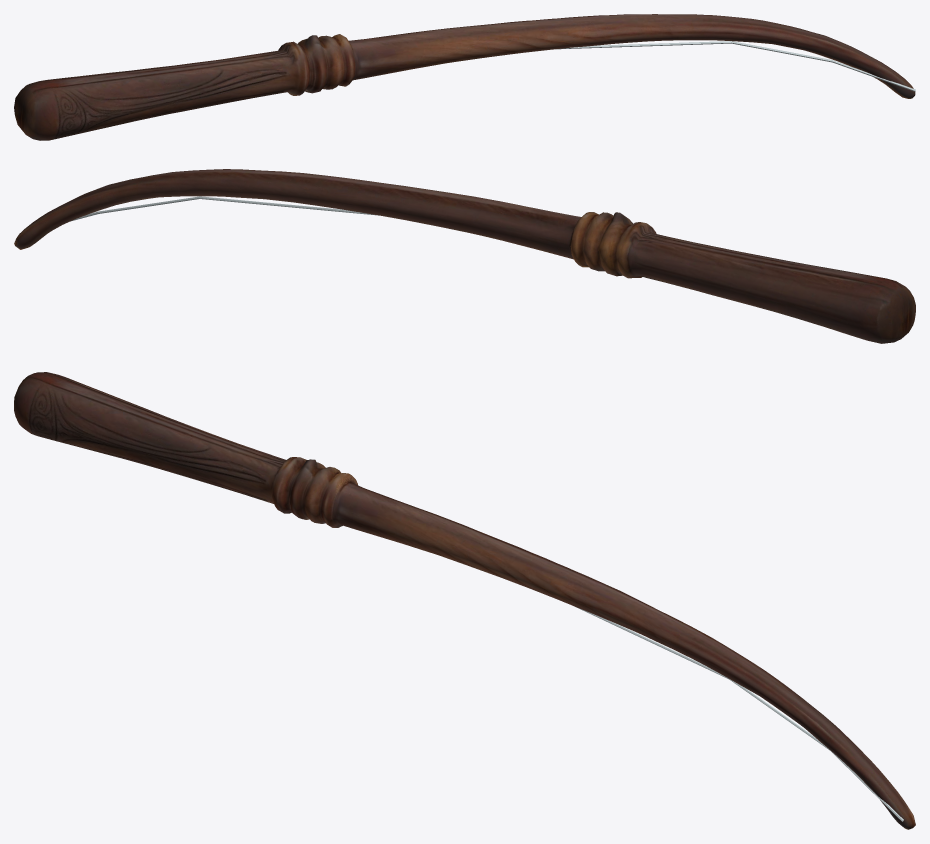
Rendered from fishing_rod.glb.
3 views of the same model, one above another, from view 1: azimuth 30°, elevation 25°; view 2: azimuth 150°, elevation 25°; view 3: azimuth 330°, elevation 25° (orthographic). The views are drawn at different scales.
Visible parts, largest first — view 1: Mesh_0.005, FishingLineGuides; view 2: Mesh_0.005, FishingLineGuides; view 3: Mesh_0.005, FishingLineGuides.
Boxes of the visible parts, x1,y1,x2,y2 form: Mesh_0.005: (14,14,915,140); FishingLineGuides: (557,41,915,91); Mesh_0.005: (14,169,915,343); FishingLineGuides: (71,196,378,221); Mesh_0.005: (14,372,915,829); FishingLineGuides: (576,607,903,821).
Bounding box in the file's own units: 0.8828 × 0.1921 × 0.0936.
2 materials, 1 textured.
